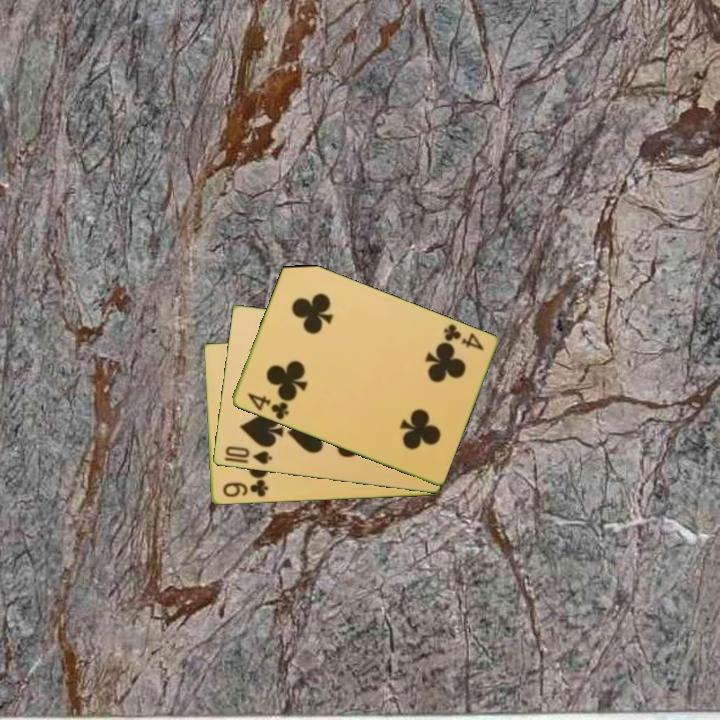10s: (222, 443, 274, 467)
4c: (244, 389, 291, 423), (440, 320, 486, 353)
9c: (219, 476, 271, 500)
